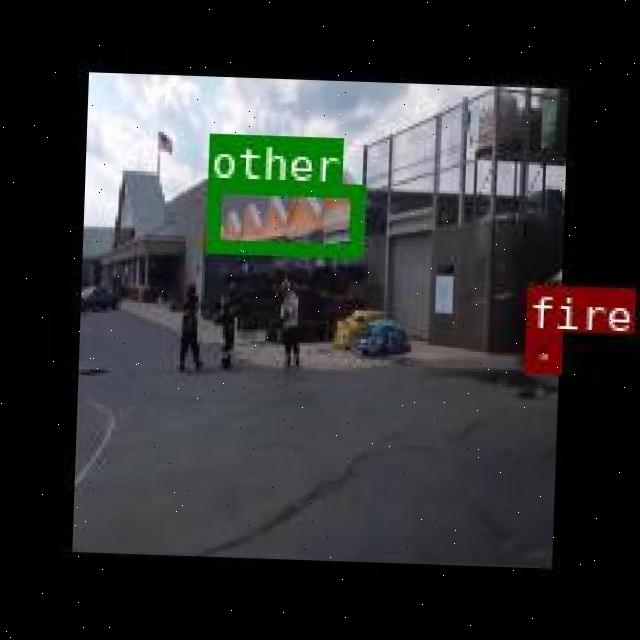fire: (522, 328, 558, 370)
